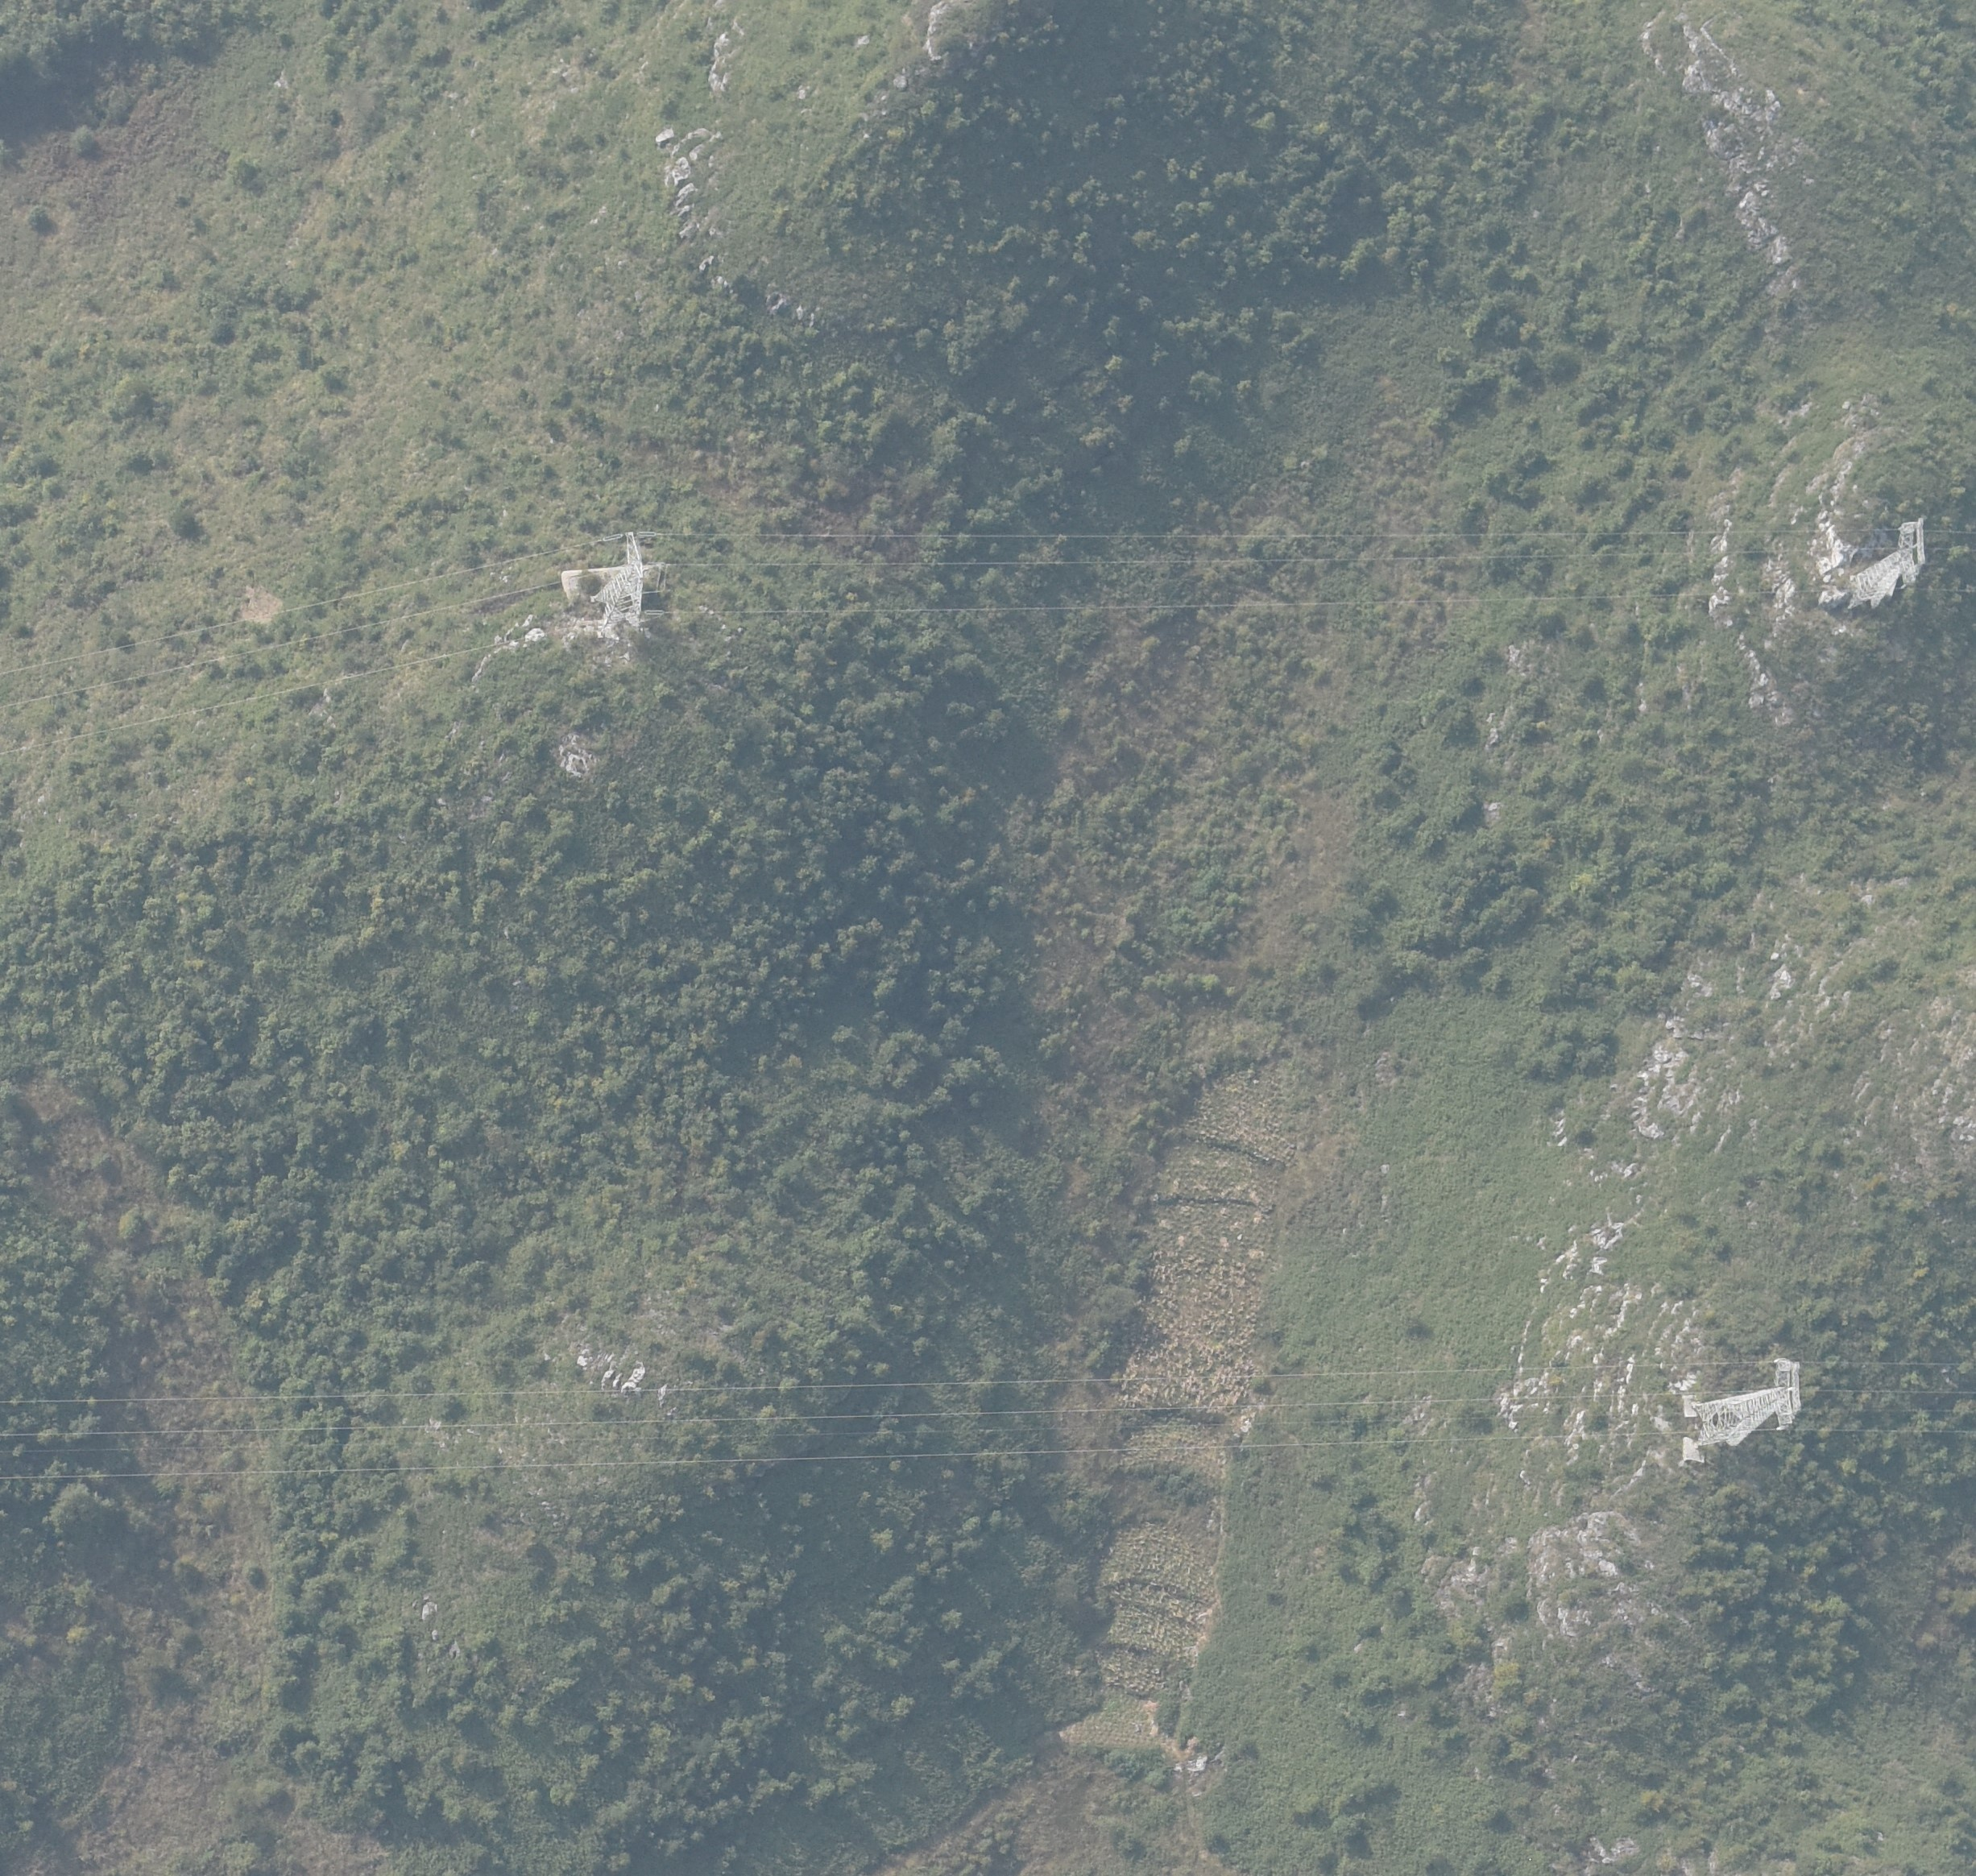cable-tower: (1683, 1358, 1801, 1463), (1850, 517, 1925, 609), (594, 530, 665, 625)
